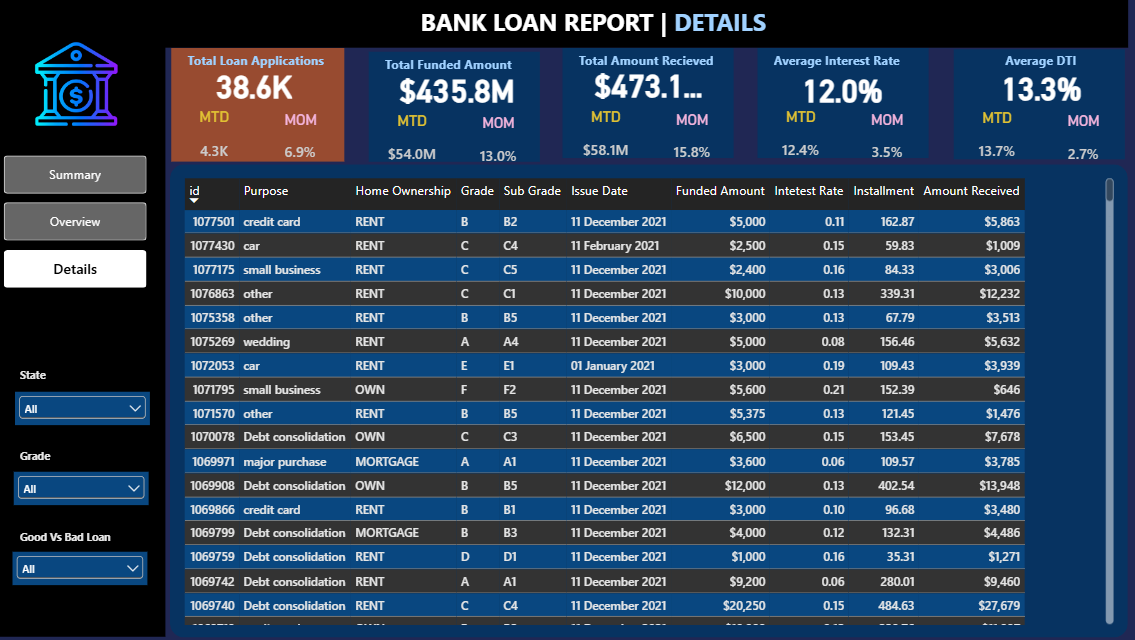

The page's visual inventory and layout, read from the dashboard file:
{"tool":"powerbi","page":{"name":"Details","canvas":[1920,1080],"ordinal":2},"visuals":[{"type":"shape","box":[0,0,1276.8,56.3],"z":0},{"type":"shape","box":[639.3,56,192.8,124],"z":0,"group":"g3"},{"type":"shape","box":[859.7,56,192.8,124],"z":0,"group":"g4"},{"type":"shape","box":[198.5,56.9,195,128],"z":0,"group":"g1"},{"type":"shape","box":[1080.3,58.1,193.1,124],"z":0,"group":"g5"},{"type":"shape","box":[421.6,60.6,192.8,124],"z":0,"group":"g2"},{"type":"cardVisual","fields":{"Data":["bank_loan_data.Avg DTI"]},"box":[1098.9,78,158,50.5],"z":1000,"group":"g5"},{"type":"cardVisual","fields":{"Data":["bank_loan_data.Total Amount Received"]},"box":[658.9,78.3,158.2,40.3],"z":1000,"group":"g3"},{"type":"cardVisual","fields":{"Data":["bank_loan_data.Total Loan Applications"]},"box":[230.9,79.1,122.6,41.7],"z":1000,"group":"g1"},{"type":"cardVisual","fields":{"Data":["bank_loan_data.Avg Interest Rate"]},"box":[876.3,84.9,157.7,40.3],"z":1000,"group":"g4"},{"type":"cardVisual","fields":{"Data":["bank_loan_data.Total Funded Amount"]},"box":[440,85.1,162.4,40.7],"z":1000,"group":"g2"},{"type":"shape","box":[196.6,187.4,1079.3,533.3],"z":1000},{"type":"shape","box":[0,54.7,192,665],"z":2000},{"type":"textbox","box":[657.7,60.2,174.8,32],"z":2000,"group":"g3"},{"type":"textbox","box":[878.1,60.2,174.8,32],"z":2000,"group":"g4"},{"type":"textbox","box":[1115.8,60.4,123.1,24.4],"z":2000,"group":"g5"},{"type":"textbox","box":[217.1,61.2,176.7,33.1],"z":2000,"group":"g1"},{"type":"textbox","box":[440,64.8,174.8,32],"z":2000,"group":"g2"},{"type":"textbox","box":[428.9,7.8,488.9,46.7],"z":3000},{"type":"cardVisual","title":"MTD","fields":{"Data":["bank_loan_data.MTD Loan Applications"]},"box":[211.7,124,71.1,59.6],"z":3000,"group":"g1"},{"type":"cardVisual","title":"MTD","fields":{"Data":["bank_loan_data.MTD Total Amount Received"]},"box":[637.5,124.2,100.1,56.8],"z":3000,"group":"g3"},{"type":"cardVisual","title":"MTD","fields":{"Data":["bank_loan_data.MTD Avg Int Rate"]},"box":[857.9,124.2,100.1,56.8],"z":3000,"group":"g4"},{"type":"cardVisual","title":"MTD","fields":{"Data":["bank_loan_data.MTD Avg DTI"]},"box":[1078.4,126.3,100.2,56.8],"z":3000,"group":"g5"},{"type":"cardVisual","title":"MTD","fields":{"Data":["bank_loan_data.MTD Funded Amount"]},"box":[419.8,128.8,100.1,56.8],"z":3000,"group":"g2"},{"type":"group","id":"g1","title":"Group 1","box":[198.5,56.9,195.3,128],"z":4000},{"type":"cardVisual","title":"MOM","fields":{"Data":["bank_loan_data.MoM Total Amount Recieved"]},"box":[746.9,125.9,75.3,58.1],"z":4000,"group":"g3"},{"type":"cardVisual","title":"MOM","fields":{"Data":["bank_loan_data.MoM Avg Int Rate"]},"box":[967.3,125.9,75.3,58.1],"z":4000,"group":"g4"},{"type":"cardVisual","title":"MOM","fields":{"Data":["bank_loan_data.MoM Loan Application"]},"box":[310.4,126.7,68.9,55.9],"z":4000,"group":"g1"},{"type":"cardVisual","title":"MOM","fields":{"Data":["bank_loan_data.MoM Avg DTI"]},"box":[1187.9,128,75.5,58.1],"z":4000,"group":"g5"},{"type":"cardVisual","title":"MOM","fields":{"Data":["bank_loan_data.MoM Total Funded Amount"]},"box":[529.2,130.5,75.3,58.1],"z":4000,"group":"g2"},{"type":"group","id":"g2","title":"Group 1","box":[419.8,60.6,194.8,127.7],"z":5000},{"type":"group","id":"g3","title":"Group 1","box":[637.5,56,195,128],"z":6000},{"type":"group","id":"g4","title":"Group 1","box":[857.9,56,195,128],"z":7000},{"type":"group","id":"g5","title":"Group 1","box":[1078.4,58.1,195,128],"z":8000},{"type":"slicer","fields":{"Values":["bank_loan_data.address_state"]},"box":[22.2,443,152.2,37.8],"z":9000},{"type":"textbox","box":[28,414.6,47.6,28],"z":10000},{"type":"slicer","fields":{"Values":["bank_loan_data.grade"]},"box":[21.1,533.1,152.2,37.8],"z":11000},{"type":"textbox","box":[28,506.1,47.6,26.8],"z":12000},{"type":"slicer","fields":{"Values":["bank_loan_data.Good v Bad Loan"]},"box":[20,624.4,152.2,37.8],"z":13000},{"type":"textbox","box":[27.6,597.7,120.7,26.4],"z":14000},{"type":"tableEx","fields":{"Values":["bank_loan_data.id","bank_loan_data.purpose","bank_loan_data.home_ownership","bank_loan_data.grade","bank_loan_data.sub_grade","bank_loan_data.issue_date","bank_loan_data.Total Funded Amount","Sum(bank_loan_data.int_rate)","Sum(bank_loan_data.installment)","bank_loan_data.Total Amount Received"]},"box":[197.2,188.7,1079,533],"z":17000},{"type":"image","box":[18.3,46.5,146.5,107],"z":18000},{"type":"pageNavigator","box":[9.9,177.5,162,149.3],"z":19000}]}

Visuals, with their boxes in screenshot pixels (x1, y1, x2, y2), scaled from the page's 1920x1080 canvas onto the 1135x640 screenshot:
shape: [x1=0, y1=0, x2=755, y2=33]
shape: [x1=378, y1=33, x2=492, y2=107]
shape: [x1=508, y1=33, x2=622, y2=107]
shape: [x1=117, y1=34, x2=233, y2=110]
shape: [x1=639, y1=34, x2=753, y2=108]
shape: [x1=249, y1=36, x2=363, y2=109]
cardVisual - bank_loan_data.Avg DTI: [x1=650, y1=46, x2=743, y2=76]
cardVisual - bank_loan_data.Total Amount Received: [x1=390, y1=46, x2=483, y2=70]
cardVisual - bank_loan_data.Total Loan Applications: [x1=136, y1=47, x2=209, y2=72]
cardVisual - bank_loan_data.Avg Interest Rate: [x1=518, y1=50, x2=611, y2=74]
cardVisual - bank_loan_data.Total Funded Amount: [x1=260, y1=50, x2=356, y2=75]
shape: [x1=116, y1=111, x2=754, y2=427]
shape: [x1=0, y1=32, x2=114, y2=426]
textbox: [x1=389, y1=36, x2=492, y2=55]
textbox: [x1=519, y1=36, x2=622, y2=55]
textbox: [x1=660, y1=36, x2=732, y2=50]
textbox: [x1=128, y1=36, x2=233, y2=56]
textbox: [x1=260, y1=38, x2=363, y2=57]
textbox: [x1=254, y1=5, x2=543, y2=32]
"MTD" cardVisual: [x1=125, y1=73, x2=167, y2=109]
"MTD" cardVisual: [x1=377, y1=74, x2=436, y2=107]
"MTD" cardVisual: [x1=507, y1=74, x2=566, y2=107]
"MTD" cardVisual: [x1=637, y1=75, x2=697, y2=109]
"MTD" cardVisual: [x1=248, y1=76, x2=307, y2=110]
"Group 1" group: [x1=117, y1=34, x2=233, y2=110]
"MOM" cardVisual: [x1=442, y1=75, x2=486, y2=109]
"MOM" cardVisual: [x1=572, y1=75, x2=616, y2=109]
"MOM" cardVisual: [x1=183, y1=75, x2=224, y2=108]
"MOM" cardVisual: [x1=702, y1=76, x2=747, y2=110]
"MOM" cardVisual: [x1=313, y1=77, x2=357, y2=112]
"Group 1" group: [x1=248, y1=36, x2=363, y2=112]
"Group 1" group: [x1=377, y1=33, x2=492, y2=109]
"Group 1" group: [x1=507, y1=33, x2=622, y2=109]
"Group 1" group: [x1=637, y1=34, x2=753, y2=110]
slicer - bank_loan_data.address_state: [x1=13, y1=263, x2=103, y2=285]
textbox: [x1=17, y1=246, x2=45, y2=262]
slicer - bank_loan_data.grade: [x1=12, y1=316, x2=102, y2=338]
textbox: [x1=17, y1=300, x2=45, y2=316]
slicer - bank_loan_data.Good v Bad Loan: [x1=12, y1=370, x2=102, y2=392]
textbox: [x1=16, y1=354, x2=88, y2=370]
tableEx - bank_loan_data.id x bank_loan_data.purpose: [x1=117, y1=112, x2=754, y2=428]
image: [x1=11, y1=28, x2=97, y2=91]
pageNavigator: [x1=6, y1=105, x2=102, y2=194]
